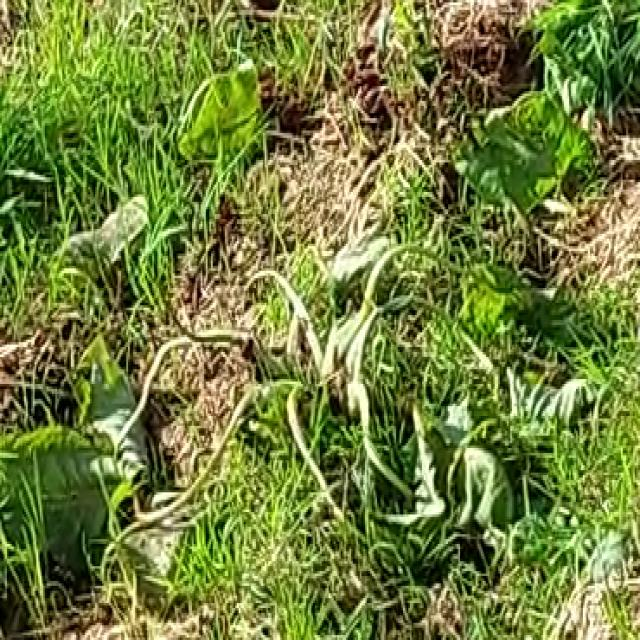organic waste: (0, 57, 597, 593)
